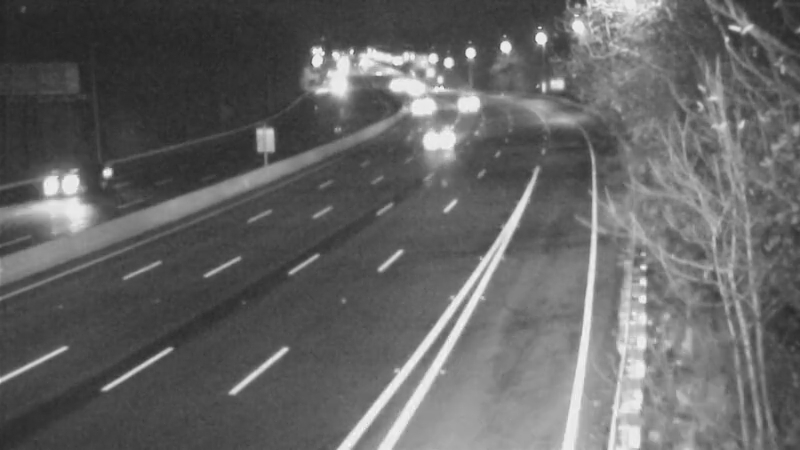vehicle: (19, 146, 99, 226), (411, 63, 461, 113), (440, 80, 490, 130), (396, 83, 446, 133), (424, 115, 474, 165)
